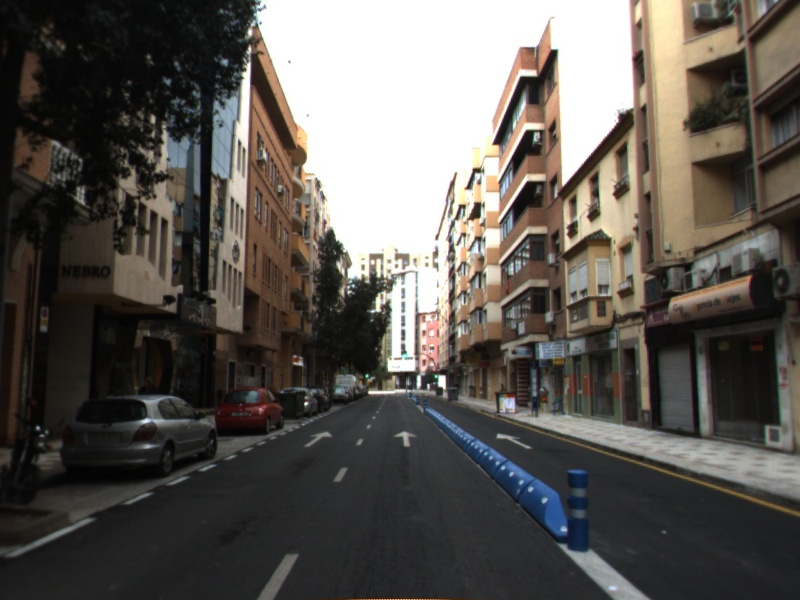STRAIGHT: (495, 431, 533, 450), (302, 430, 334, 449), (392, 429, 419, 448)
